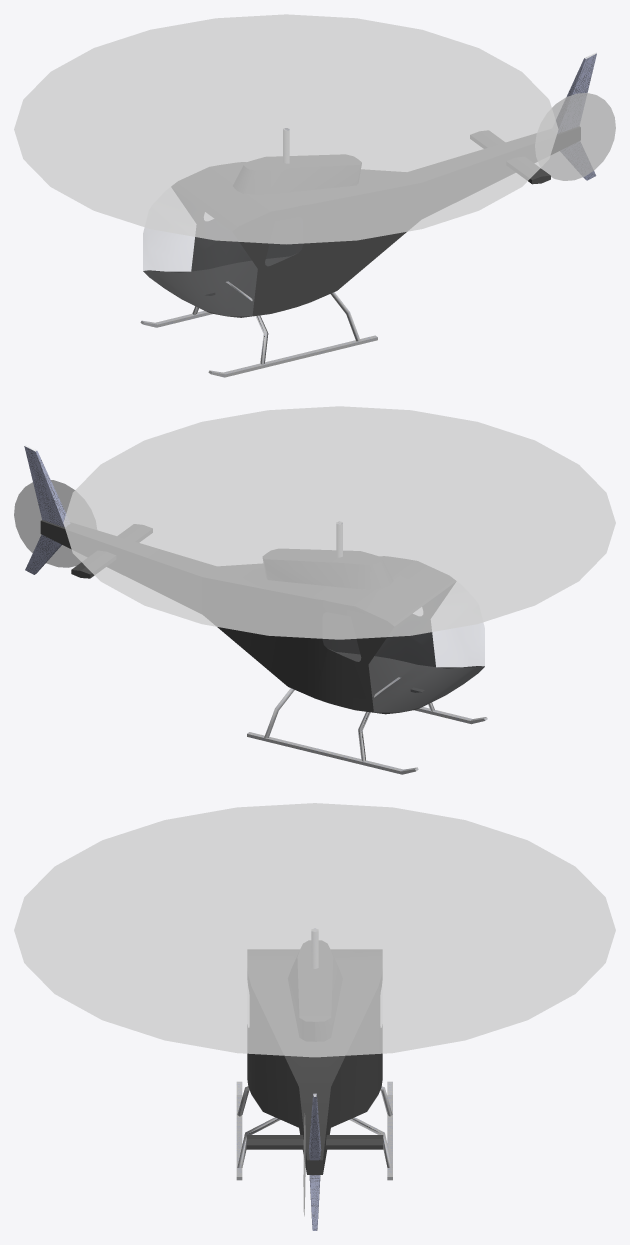
Rendered from uav1.dae.
The picture shows the model from 3 angles, top to bottom: view 1: azimuth 30°, elevation 25°; view 2: azimuth 150°, elevation 25°; view 3: azimuth 270°, elevation 25°; orthographic projection. The views are drawn at different scales.
Parts seen in each view (by area): view 1: ske22, Group_1_1, Air_Helicopter__CameraPod, Group1, Component_2; view 2: ske22, Group_1_1, Air_Helicopter__CameraPod, Group1, Component_2; view 3: ske22, Group_1_1, Group1, Air_Helicopter__CameraPod, Component_1_1_2, Component_2.
Boxes of the visible parts, <box> form: ske22: <box>14,14,558,244</box>; Group_1_1: <box>143,127,580,317</box>; Air_Helicopter__CameraPod: <box>201,53,615,295</box>; Group1: <box>470,131,550,184</box>; Component_2: <box>208,335,377,377</box>; ske22: <box>63,406,615,639</box>; Group_1_1: <box>40,520,484,714</box>; Air_Helicopter__CameraPod: <box>14,445,424,692</box>; Group1: <box>71,524,152,578</box>; Component_2: <box>247,732,418,774</box>; ske22: <box>14,803,615,1057</box>; Group_1_1: <box>247,941,382,1174</box>; Group1: <box>246,1135,383,1149</box>; Air_Helicopter__CameraPod: <box>303,928,321,1230</box>; Component_1_1_2: <box>237,1117,392,1167</box>; Component_2: <box>236,1081,242,1180</box>.
Size of the model in its own units: 358 by 301 by 122.
